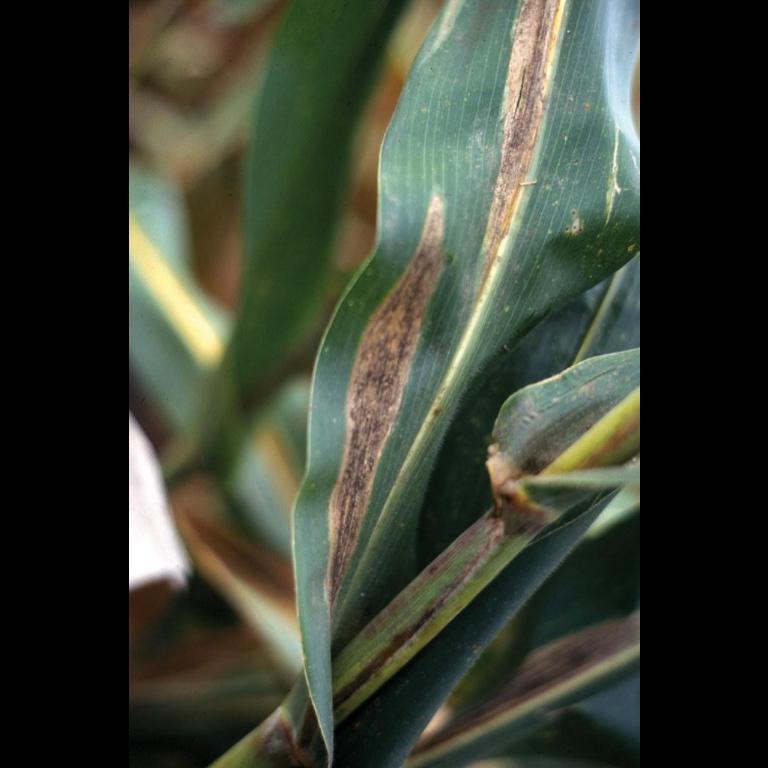blight: (314, 236, 452, 592), (476, 0, 580, 232)
